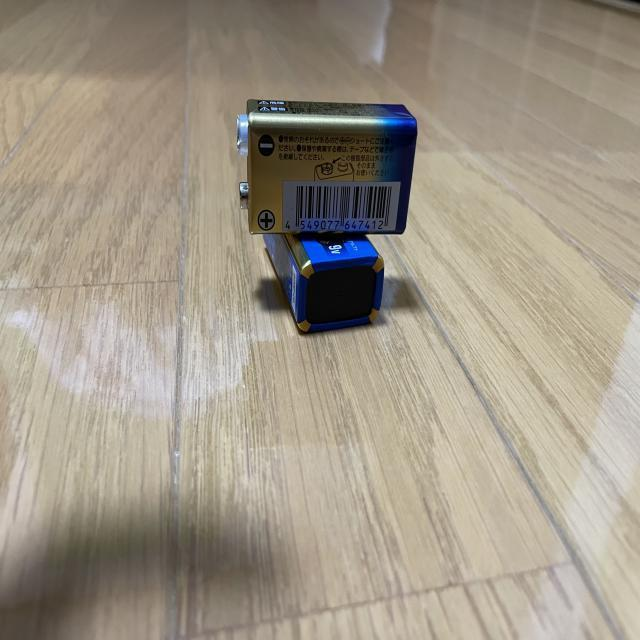9V: (237, 98, 420, 233), (261, 210, 387, 331)
